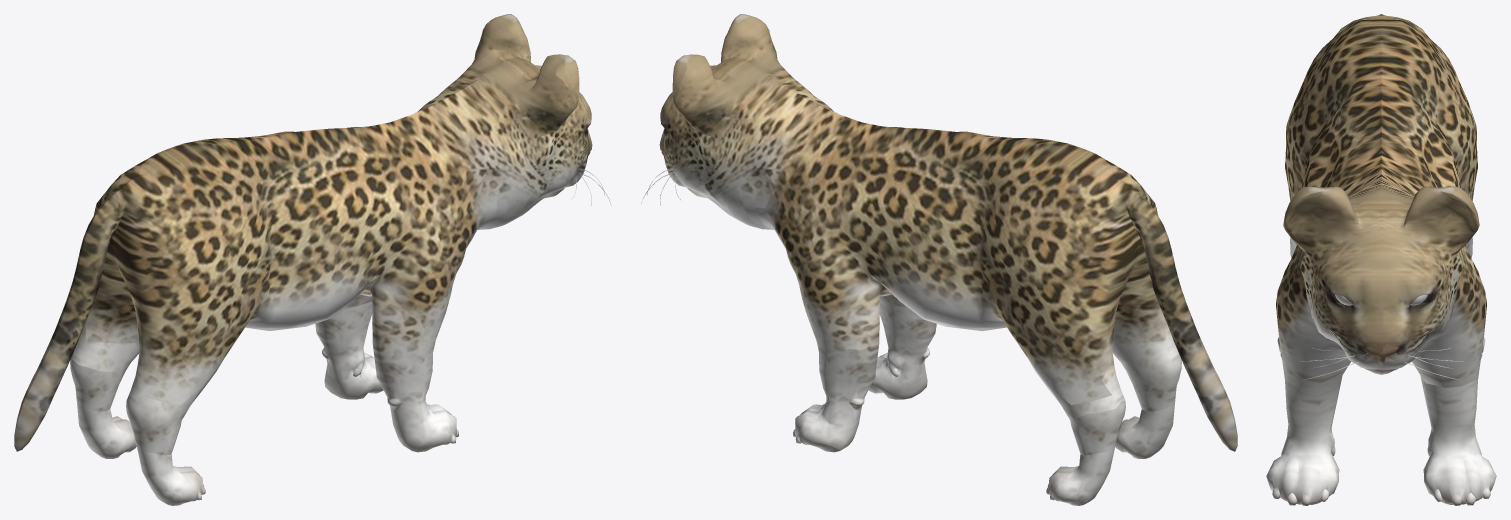
Rendered from leopardo.obj.
3 views of the same model, side by side, from view 1: azimuth 30°, elevation 25°; view 2: azimuth 150°, elevation 25°; view 3: azimuth 270°, elevation 25° (orthographic). The views are drawn at different scales.
Parts seen in each view (by area): view 1: leopcub.001; view 2: leopcub.001; view 3: leopcub.001, leopcub.004.
Part boxes in pixels (x1=…): leopcub.001: x1=14, y1=14, x2=592, y2=505; leopcub.001: x1=659, y1=14, x2=1237, y2=505; leopcub.001: x1=1266, y1=14, x2=1496, y2=505; leopcub.004: x1=1299, y1=347, x2=1463, y2=380.
Size of the model in its own units: 100 by 57.52 by 30.97.
